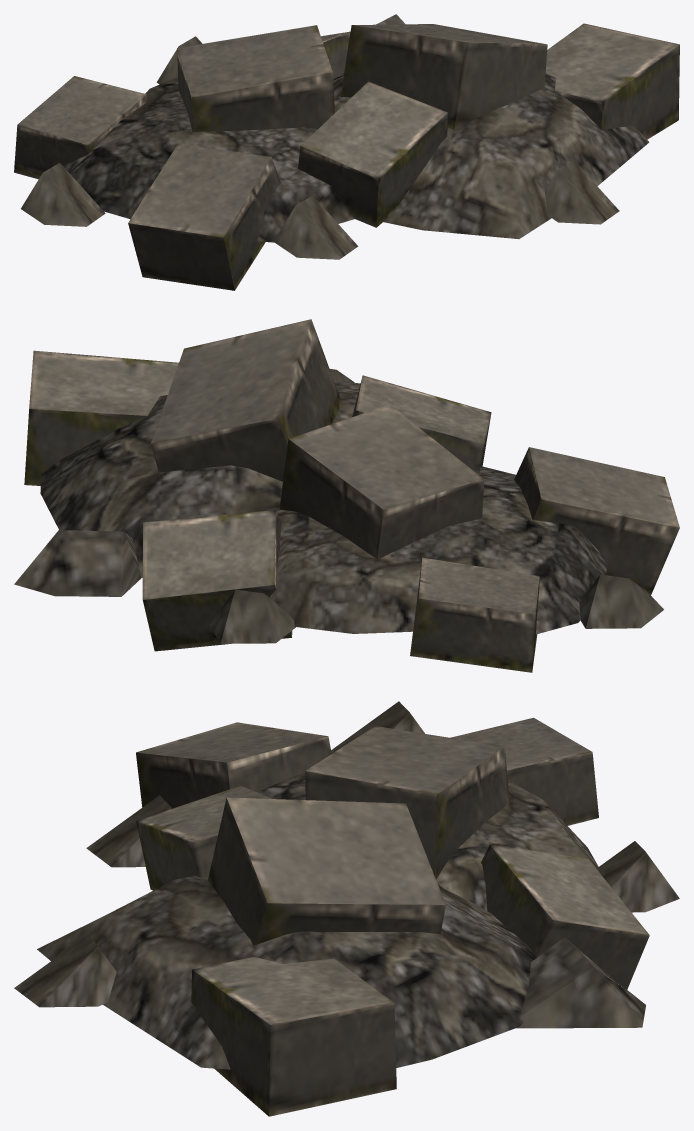
The model's file is SM_EN_2005_suishi01.FBX.
3 views of the same model, one above another, from view 1: azimuth 30°, elevation 25°; view 2: azimuth 150°, elevation 25°; view 3: azimuth 270°, elevation 25° (orthographic). The views are drawn at different scales.
Visible parts, largest first — view 1: SM_EN_2005_suishi01; view 2: SM_EN_2005_suishi01; view 3: SM_EN_2005_suishi01.
Boxes of the visible parts, <box> form: SM_EN_2005_suishi01: <box>14,14,679,290</box>; SM_EN_2005_suishi01: <box>14,319,679,672</box>; SM_EN_2005_suishi01: <box>14,701,679,1116</box>.
Bounding box in the file's own units: 133 × 37.02 × 103.
